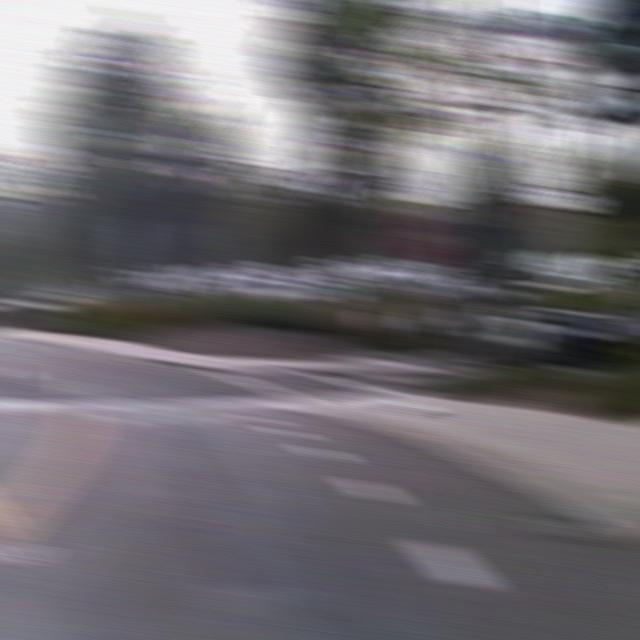stop_sign: (399, 214, 453, 266)
